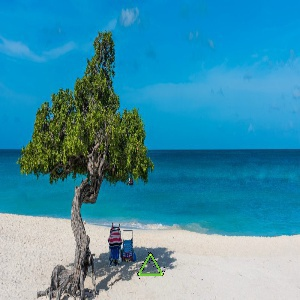triangle: (133, 249, 166, 280)
